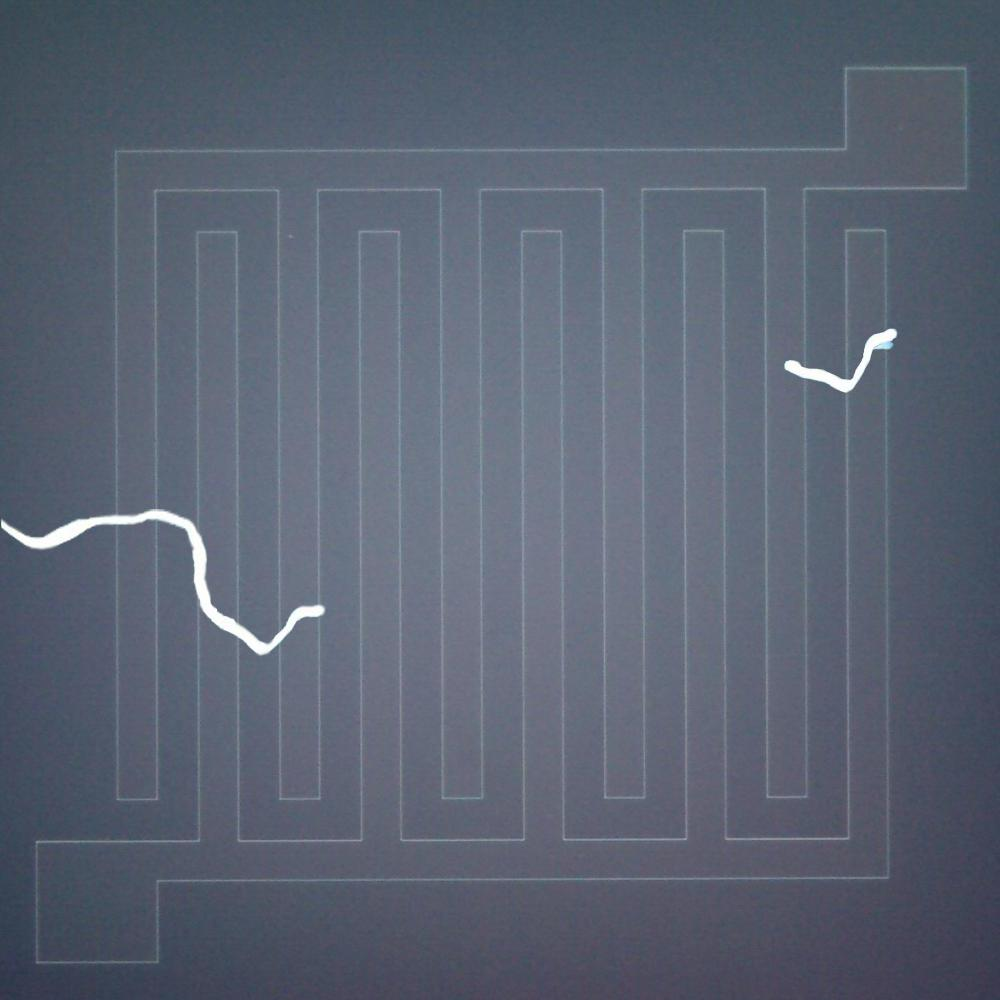line: (0, 500, 332, 663), (780, 317, 904, 400)
